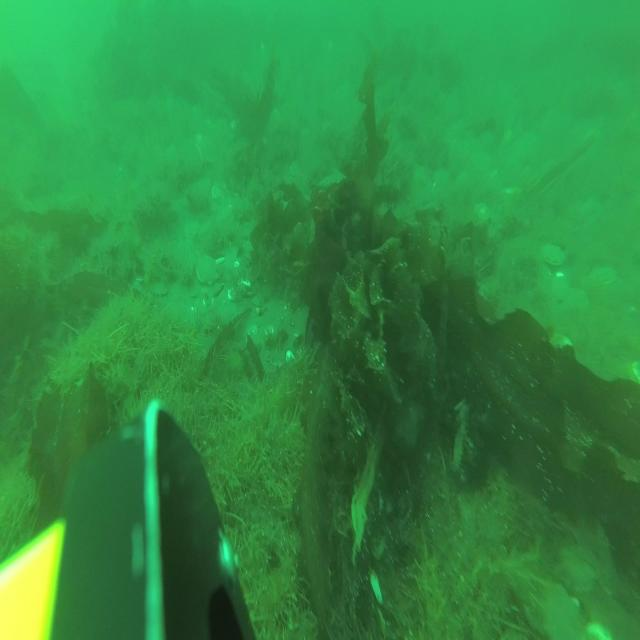scallop: (524, 572, 579, 640), (556, 537, 606, 597), (539, 238, 568, 269), (195, 253, 219, 286), (590, 262, 618, 288), (151, 274, 175, 298), (184, 217, 202, 242), (210, 180, 230, 202)
